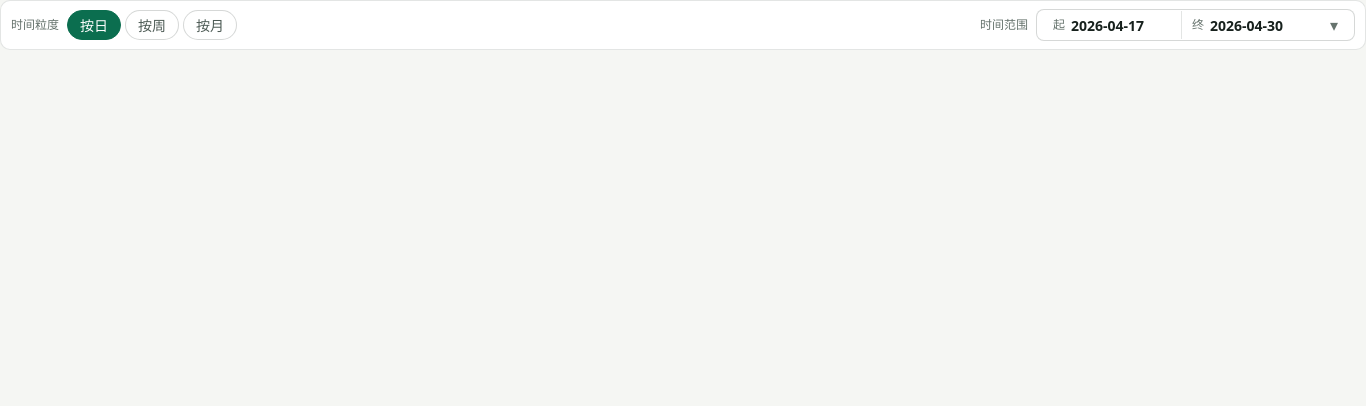
Test: FilterBar date range picker › offers yesterday and recent-day shortcuts
The width and height of the screenshot is (1366, 406).
Click the button with class "date-range-trigger" at (1196, 25), box [1036, 9, 1355, 41]
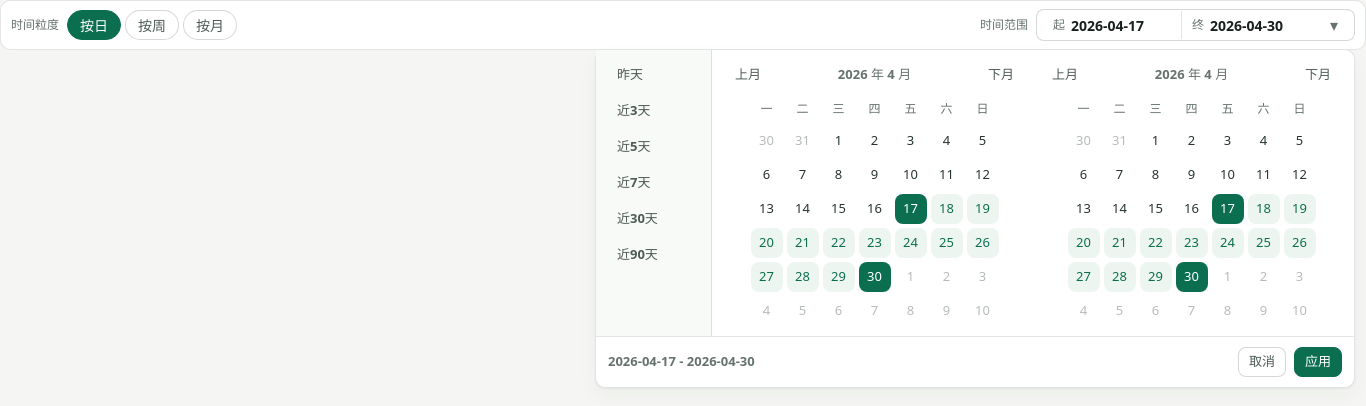
Expected: the text "昨天" is shown, [606, 60, 701, 90]
Expected: the text "近3天" is shown, [606, 96, 701, 126]
Expected: the text "近5天" is shown, [606, 132, 701, 162]
